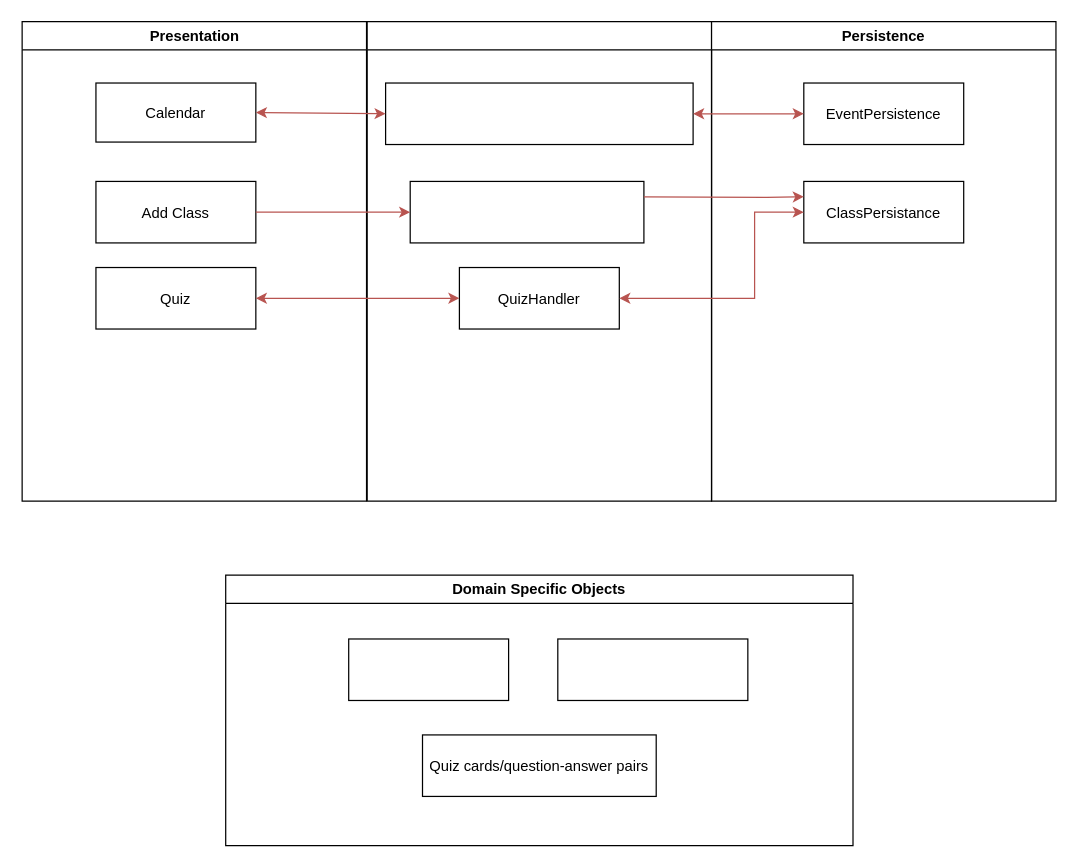
Image size: 1077x867. Some labels were removed from this diagram. Here are the shapes that lost their labels. From the top down, the box of each, then its label:
(384, 82, 693, 145): CalendarHandler
(409, 180, 644, 243): ClassHandler
(366, 20, 712, 501): Business Logic
(347, 638, 509, 700): Class
(557, 638, 748, 700): Event dates/data
